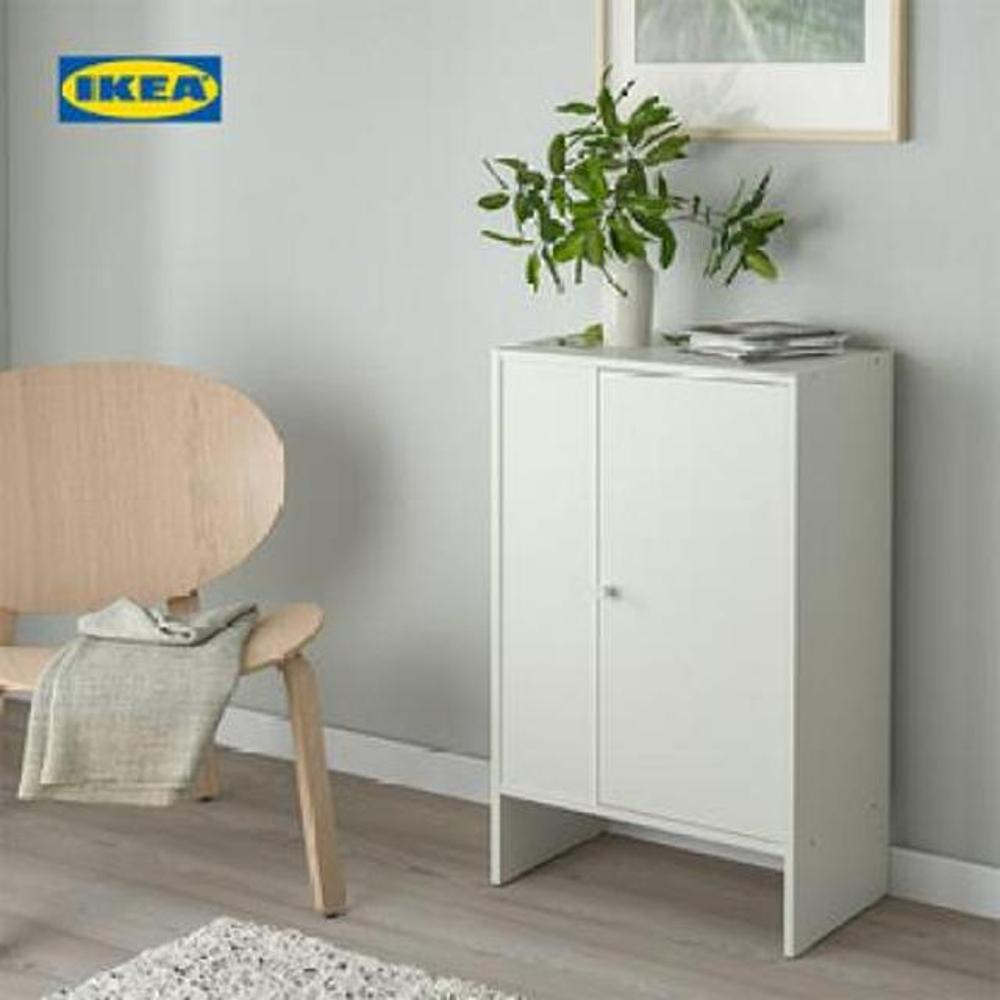lamp: (488, 320, 904, 966)
